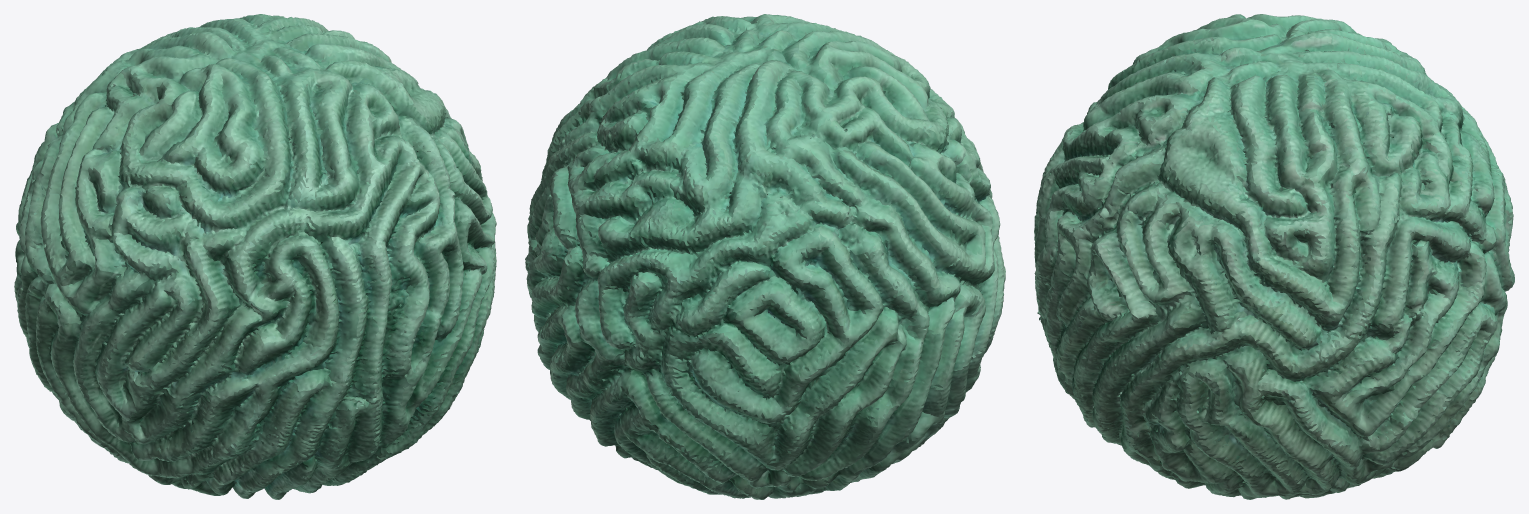
Rendered from coral_brain.glb.
The picture shows the model from 3 angles, left to right: view 1: azimuth 30°, elevation 25°; view 2: azimuth 150°, elevation 25°; view 3: azimuth 270°, elevation 25°; orthographic projection.
Parts seen in each view (by area): view 1: geometry_0; view 2: geometry_0; view 3: geometry_0.
Boxes of the visible parts, box(x1,y1,x2,y2) form: geometry_0: box(14, 14, 496, 499); geometry_0: box(525, 14, 1005, 499); geometry_0: box(1034, 14, 1514, 499).
Size of the model in its own units: 0.25 by 0.2467 by 0.2496.
1 material, 1 textured.
